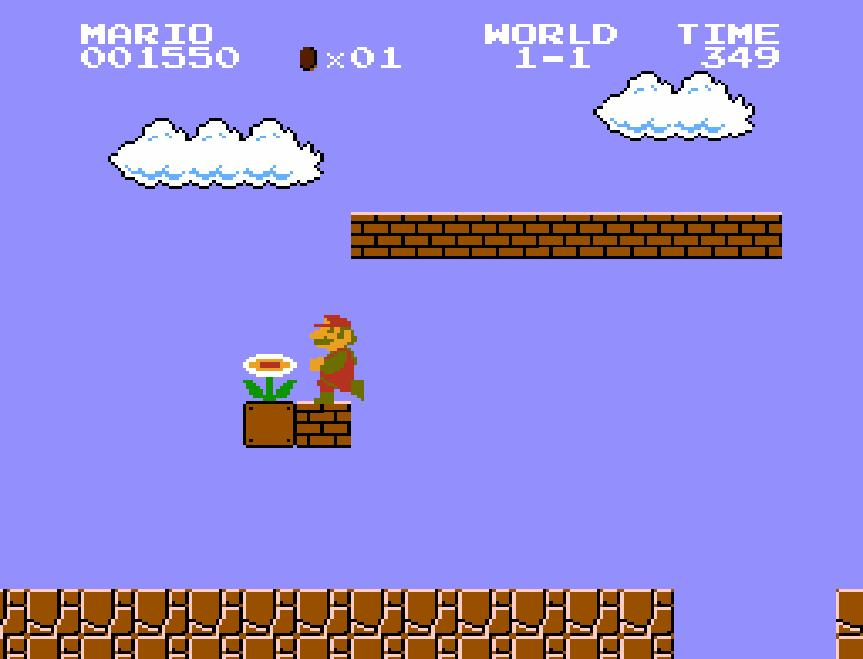big_mario: (308, 307, 366, 405)
